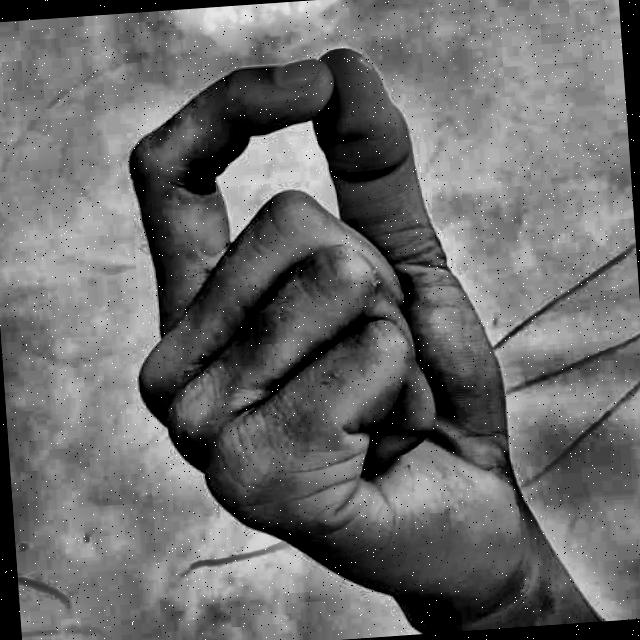Gha: (82, 15, 584, 640)
